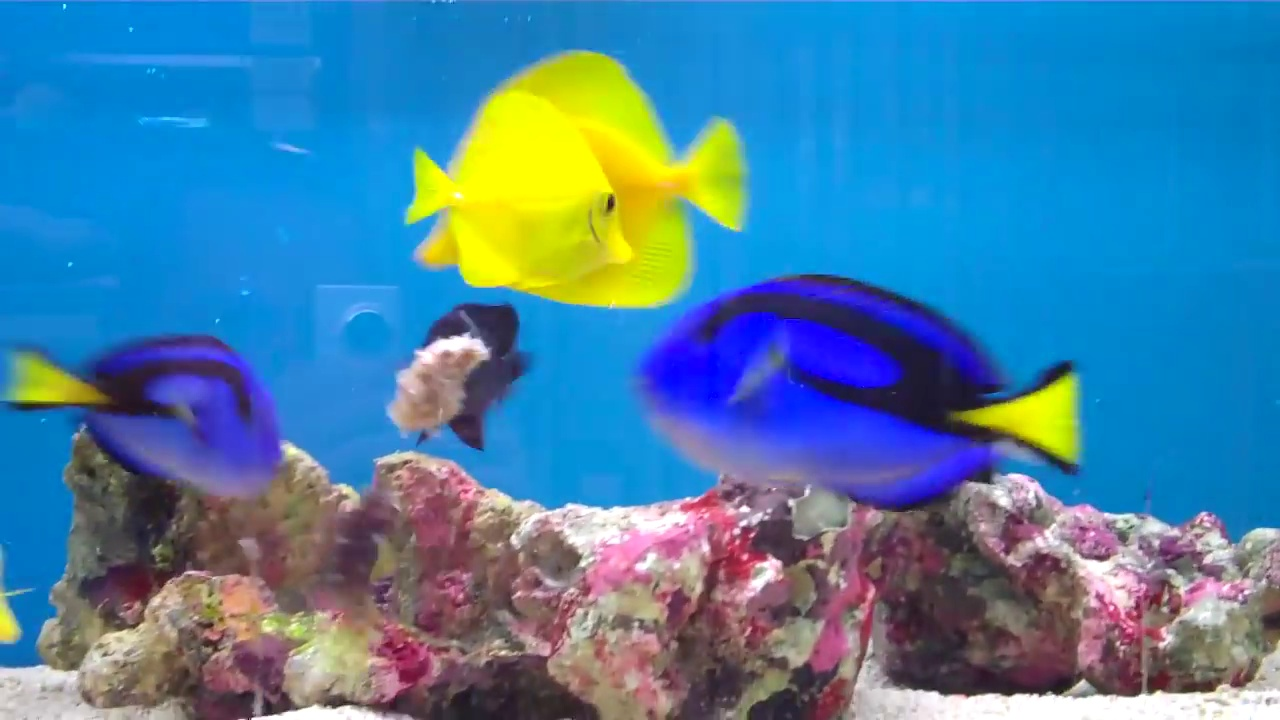blue tang surgeonfish: (623, 260, 1072, 515), (14, 312, 293, 522)
saddle butterfly fish: (387, 71, 642, 305)
